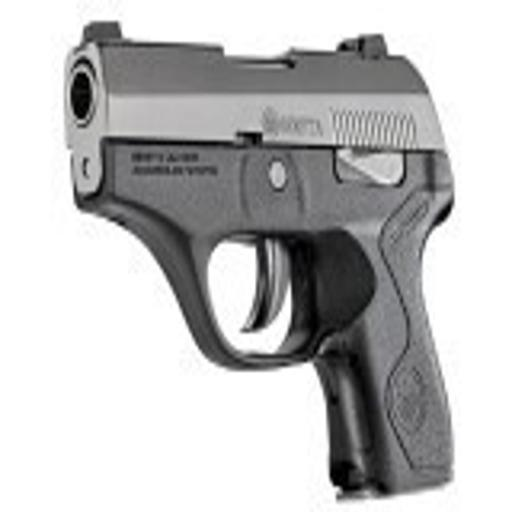Handgun: (56, 16, 466, 498)
